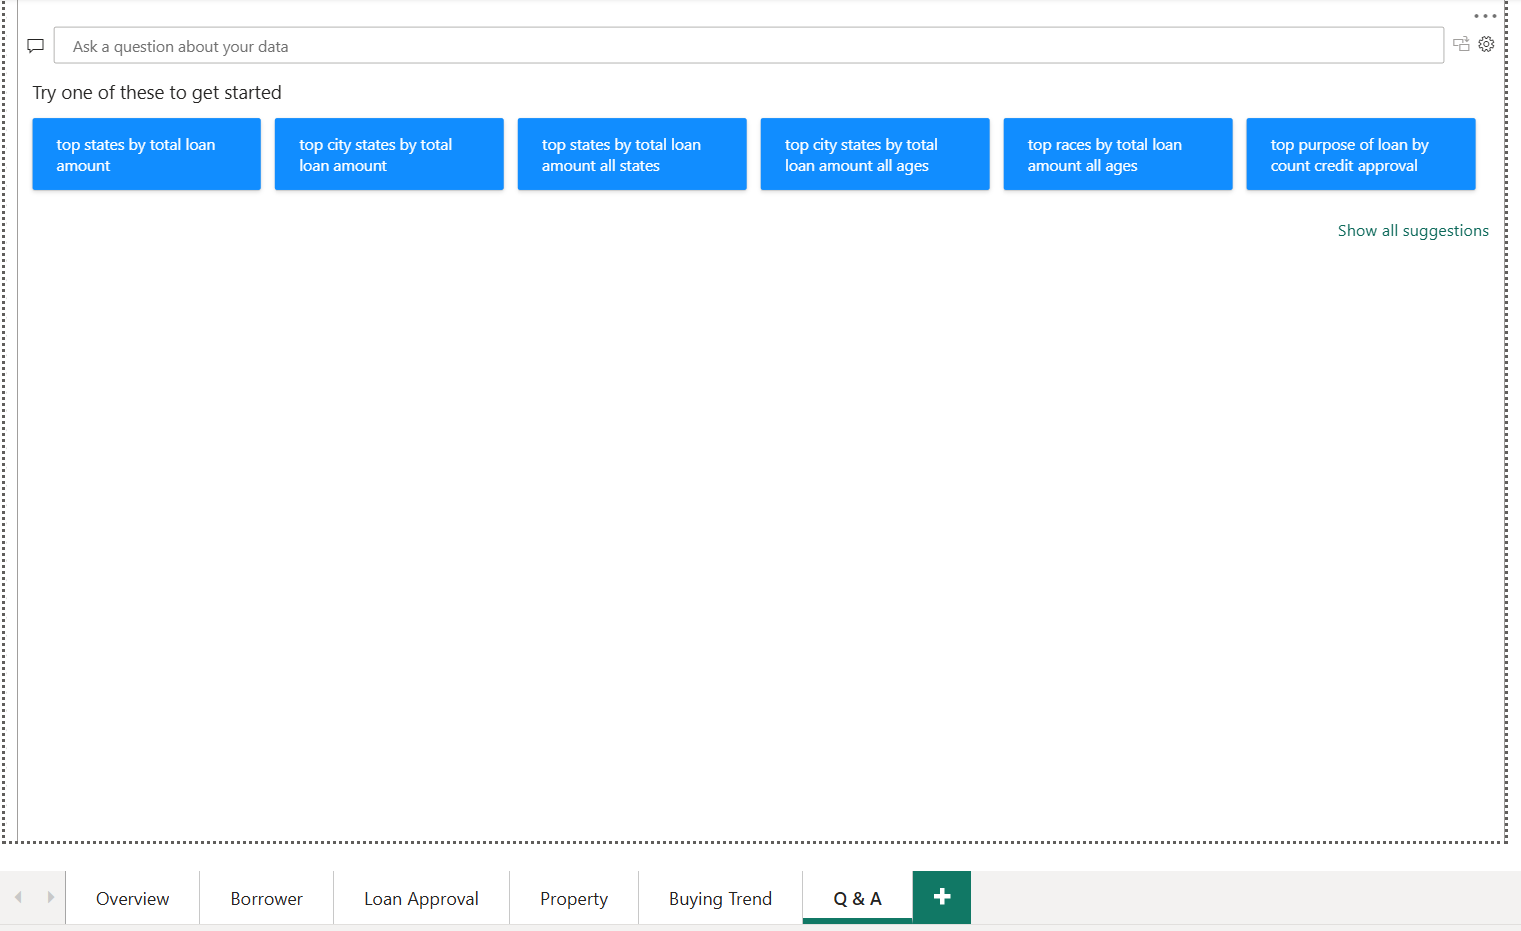

Layout of this report page (visuals, bound fields, positions):
{"tool":"powerbi","page":{"name":"Q & A","canvas":[1280,720],"ordinal":5},"visuals":[{"type":"qnaVisual","box":[10.7,0,1269.3,720.8],"z":0}]}

Visuals, with their boxes in screenshot pixels (x1, y1, x2, y2):
qnaVisual: <bbox>13, 111, 1500, 930</bbox>
